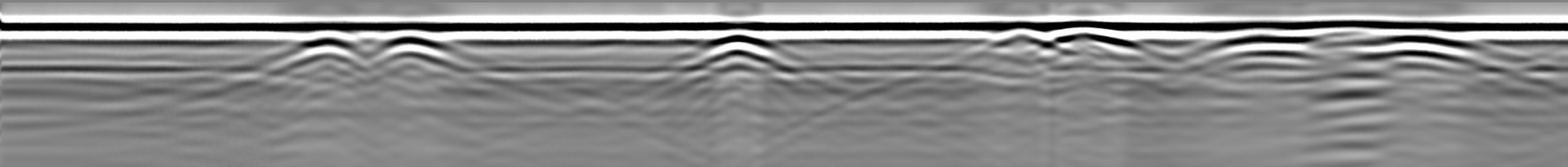pipe: (1350, 23, 1477, 46), (1214, 22, 1320, 46), (1045, 21, 1132, 46), (371, 24, 456, 47), (698, 25, 780, 46), (292, 22, 359, 46), (989, 22, 1052, 44)
